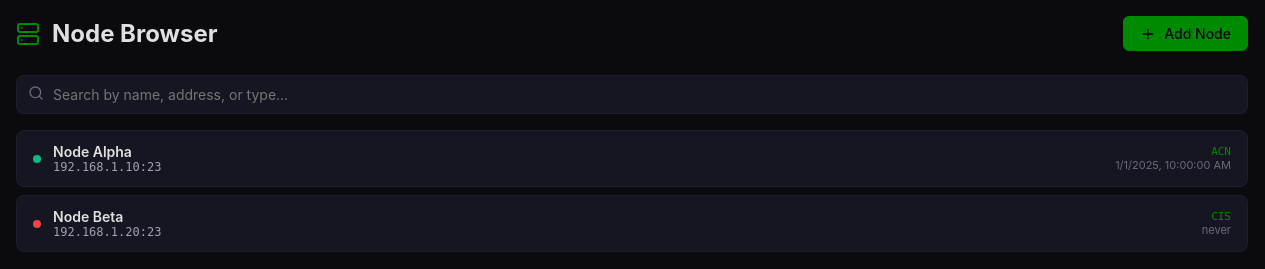
Test case: NodeBrowser › shows no-match message when search has no results
The width and height of the screenshot is (1265, 269).
expect the text "Node Alpha" is shown: met, box [53, 143, 132, 160]
Type "NonExistent" into the field with placeholder "Search by name, address, or type...". click: (632, 94)
box: [16, 75, 1248, 114]
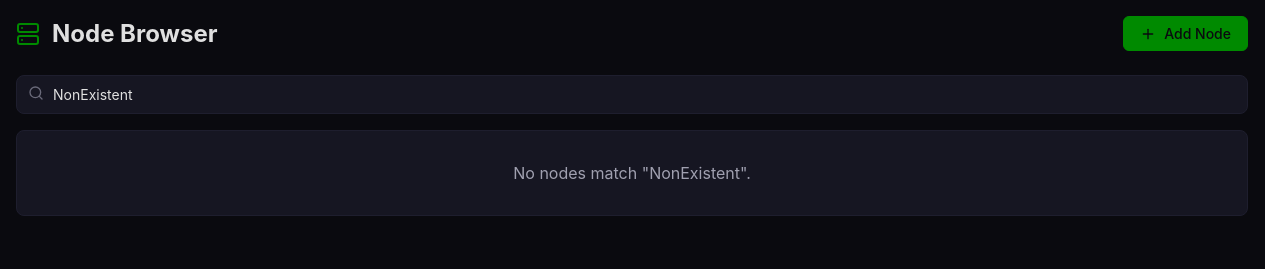
expect the text "No nodes match \"NonExistent\"." is shown: met, box [513, 163, 751, 183]
